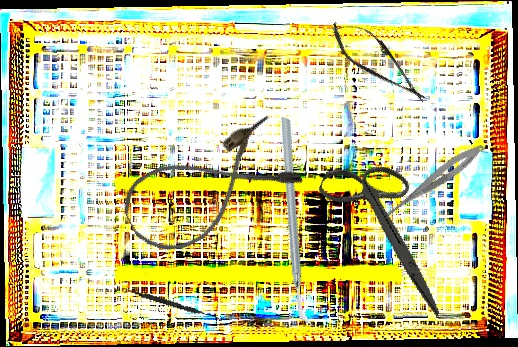Cannula: (113, 112, 306, 265)
Chopper: (219, 116, 375, 327)
Iris Scissors: (289, 143, 488, 319)
Micro Scissor: (322, 9, 437, 115), (376, 138, 488, 229)
Spatula Surgical: (121, 286, 223, 322)
